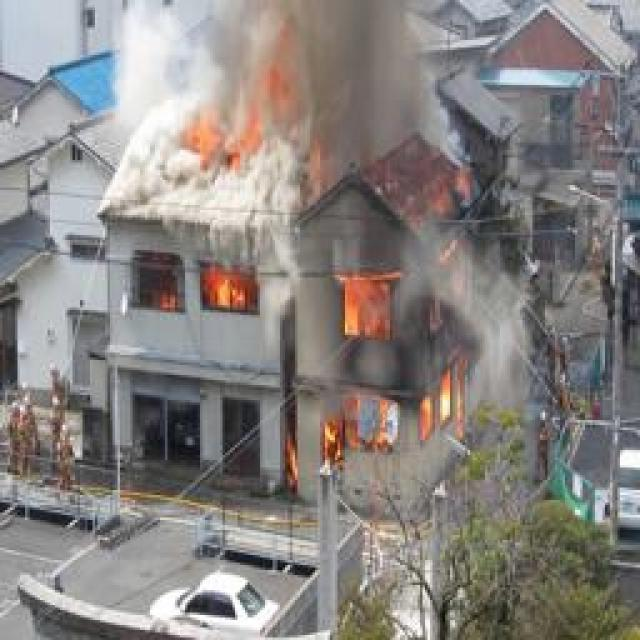Fire: (318, 136, 464, 466), (180, 53, 291, 158), (145, 266, 255, 316)
